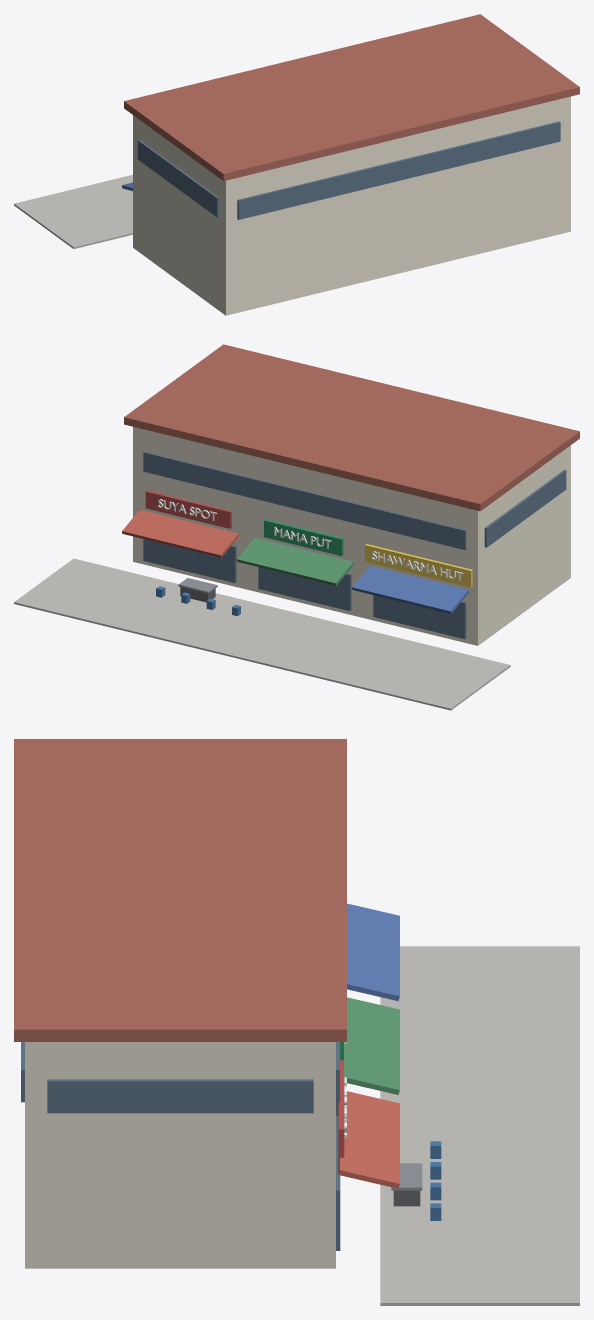
File: garki_block_2.glb
The picture shows the model from 3 angles, top to bottom: view 1: azimuth 30°, elevation 25°; view 2: azimuth 150°, elevation 25°; view 3: azimuth 270°, elevation 25°; orthographic projection. The views are drawn at different scales.
Parts seen in each view (by area): view 1: BLD_garki_block_2; view 2: BLD_garki_block_2; view 3: BLD_garki_block_2.
Boxes of the visible parts, bbox=[...] form: BLD_garki_block_2: bbox=[14, 14, 579, 315]; BLD_garki_block_2: bbox=[14, 344, 579, 710]; BLD_garki_block_2: bbox=[14, 739, 579, 1305].
Bounding box in the file's own units: 38 × 12.1 × 25.5.
